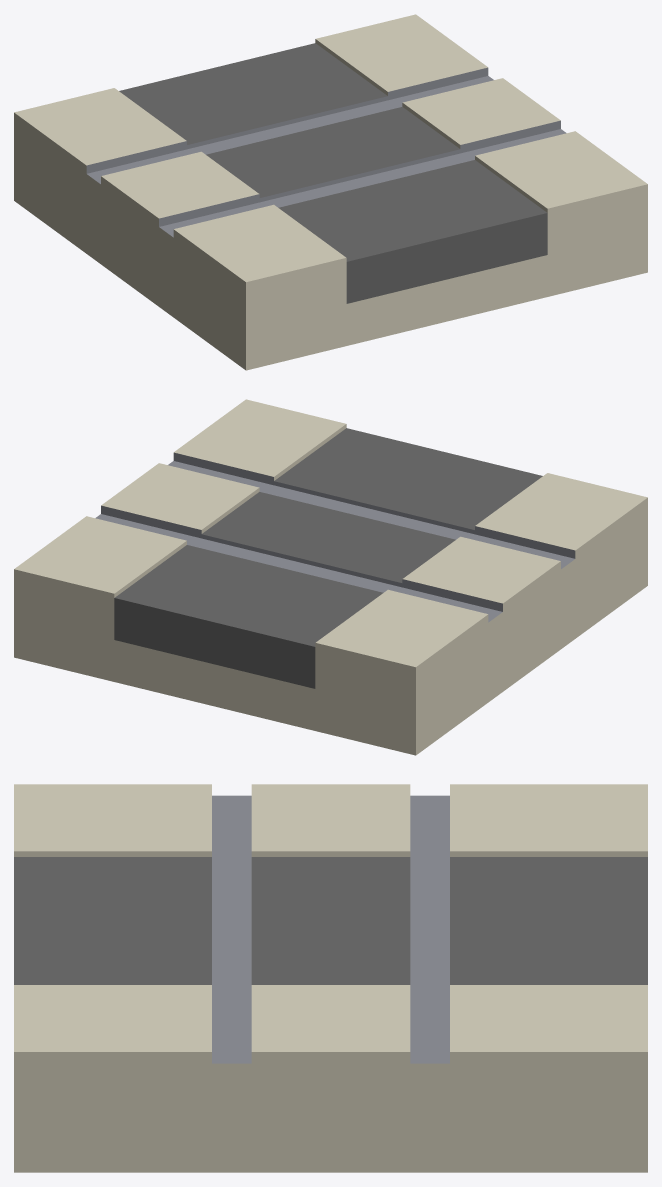
Rendered from roadTile_106.obj.
3 renders of one model, top to bottom at view 1: azimuth 30°, elevation 25°; view 2: azimuth 150°, elevation 25°; view 3: azimuth 270°, elevation 25°, orthographic. The views are drawn at different scales.
Parts seen in each view (by area): view 1: Mesh1_Group1_Model.105; view 2: Mesh1_Group1_Model.105; view 3: Mesh1_Group1_Model.105.
Boxes of the visible parts, x1,y1,x2,y2 form: Mesh1_Group1_Model.105: (14, 14, 647, 370); Mesh1_Group1_Model.105: (14, 399, 647, 755); Mesh1_Group1_Model.105: (14, 784, 647, 1172).
Bounding box in the file's own units: 3 × 0.63 × 3.
